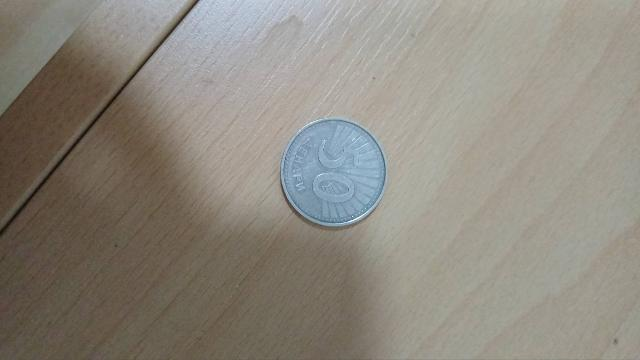50_coin: (278, 117, 391, 227)
